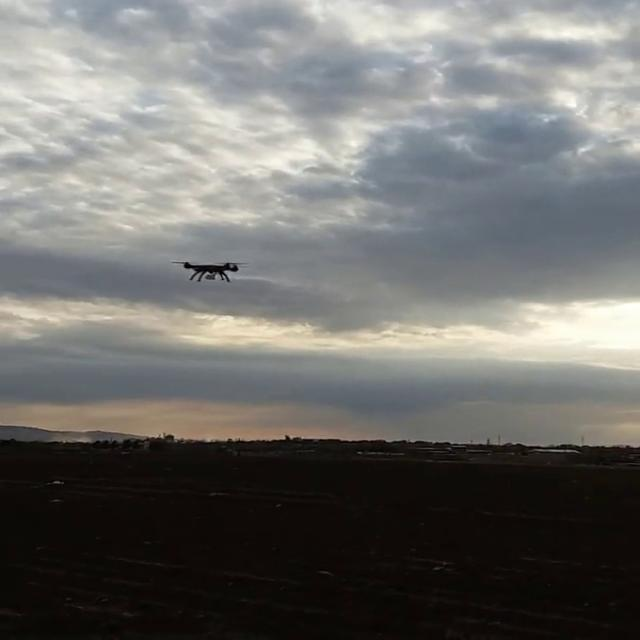drone: (168, 255, 248, 288)
